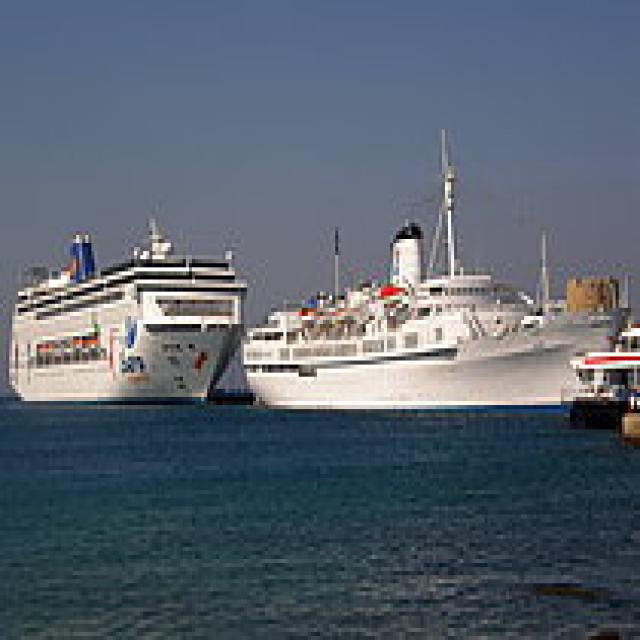Ship: (235, 154, 640, 422), (4, 220, 254, 423)
